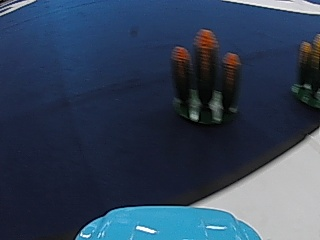corn: (170, 32, 238, 134), (292, 32, 318, 109)
